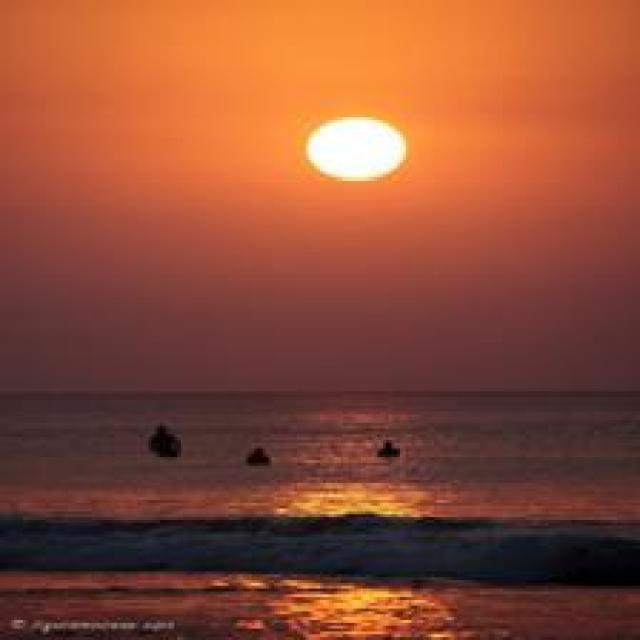sun: (305, 116, 408, 180)
